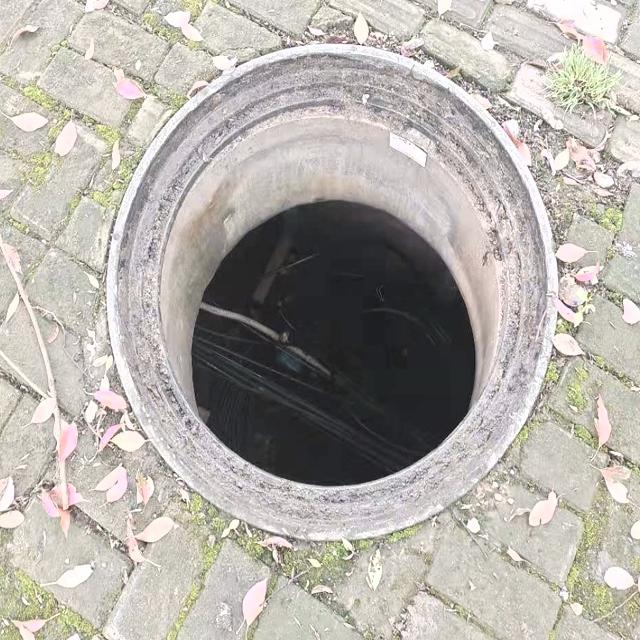lose: (105, 40, 559, 549)
